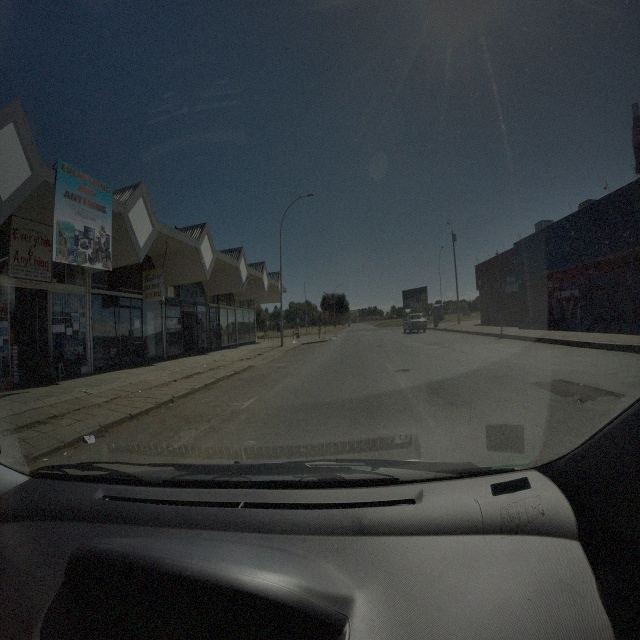pothole: (396, 367, 411, 374)
